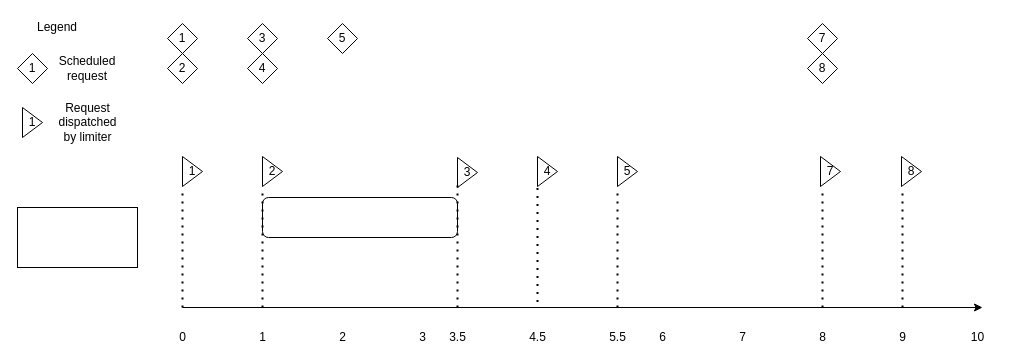
The diagram is 1010 pixels wide and 364 high, and some of its shapes have lost their labels. Here are the shapes that lost their labels. From the top down, the centre of each, then its label:
point (77, 237): StrictLimiter(rate=1)
point (360, 217): CPU - Heavy Task / Delay (2.5 seconds)
